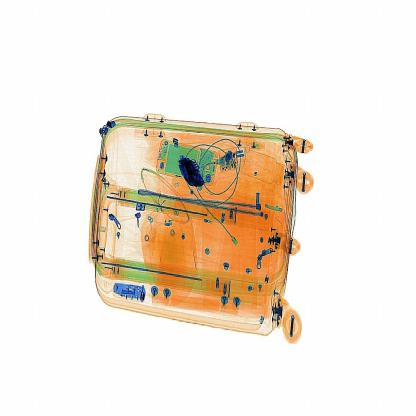scissors: (174, 147, 216, 194)
